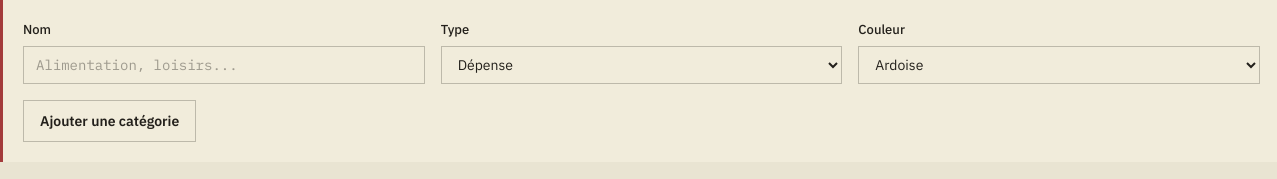
Scenario: FormulaireCategorie › affiche le message d’erreur retourné par l’action en cas d’échec
Type "Alimentation" into the field labelled "Nom" at (224, 64), box 23,46 -> 425,84
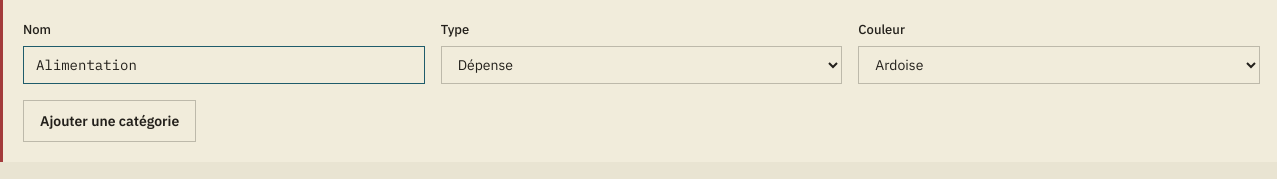
Click the button "Ajouter une catégorie" at (110, 120), box 23,100 -> 196,142
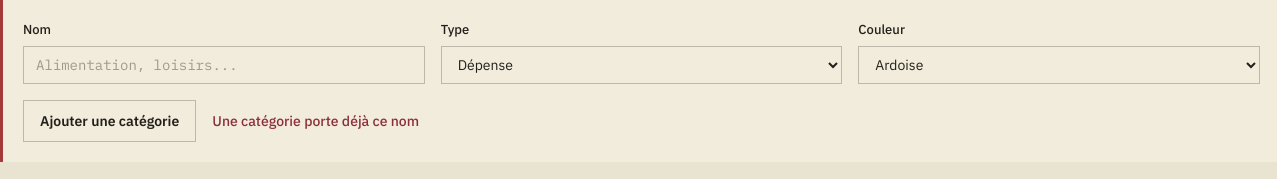
Now the text "Une catégorie porte déjà ce nom" is shown, box 212,110 -> 419,130
